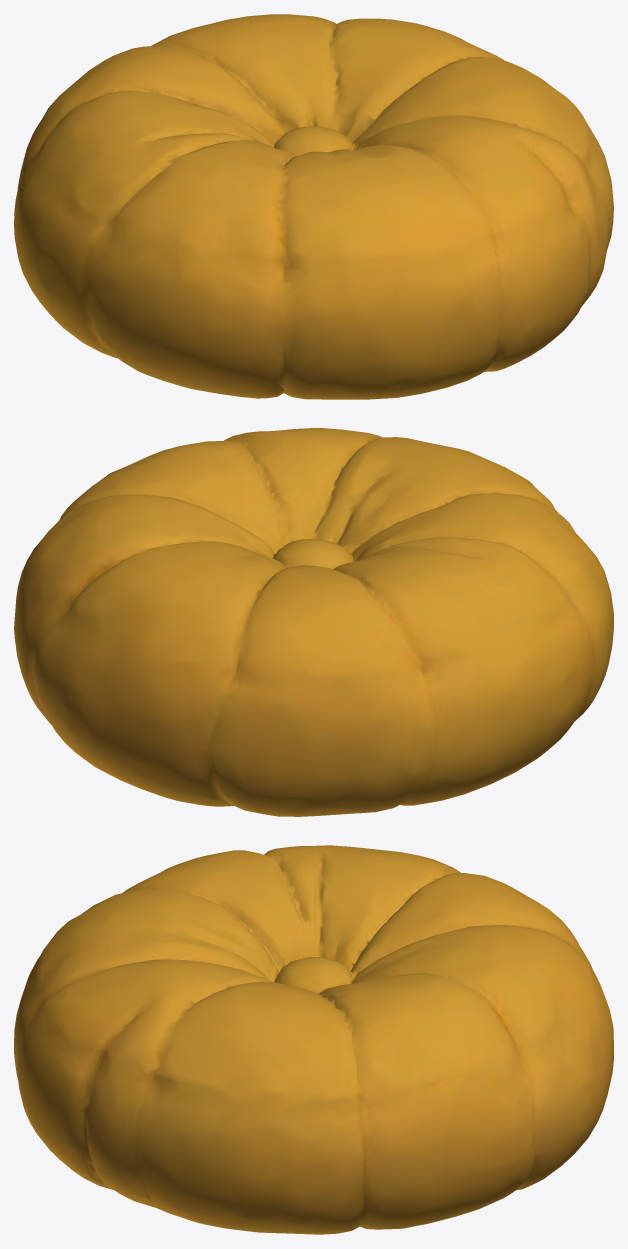
The model's file is cushion_cozy.glb.
The picture shows the model from 3 angles, top to bottom: view 1: azimuth 30°, elevation 25°; view 2: azimuth 150°, elevation 25°; view 3: azimuth 270°, elevation 25°; orthographic projection.
Visible parts, largest first — view 1: textured_mesh.obj; view 2: textured_mesh.obj; view 3: textured_mesh.obj.
Part boxes in pixels (x1,y1,x2,y2): textured_mesh.obj: (14, 14, 613, 399); textured_mesh.obj: (14, 428, 613, 816); textured_mesh.obj: (14, 845, 613, 1234).
Size of what is drawn, in the model's own units: 0.9265 by 0.35 by 0.9256.
Materials: 1 (1 with a texture image).
